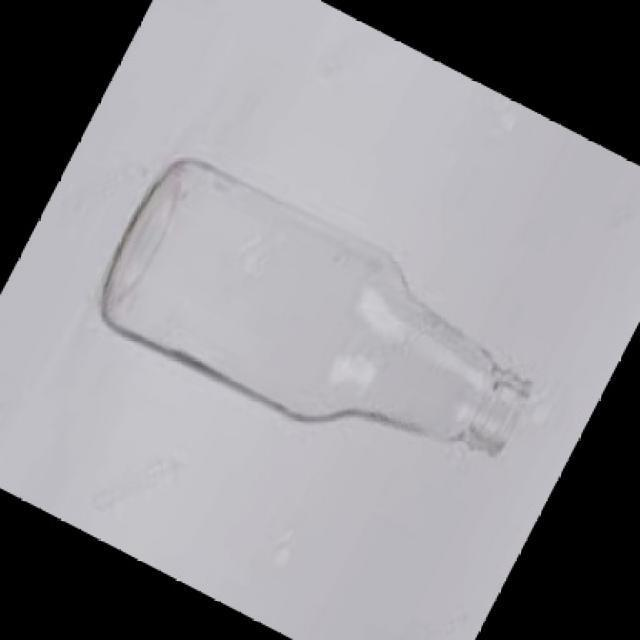Glass: (99, 157, 538, 460)
